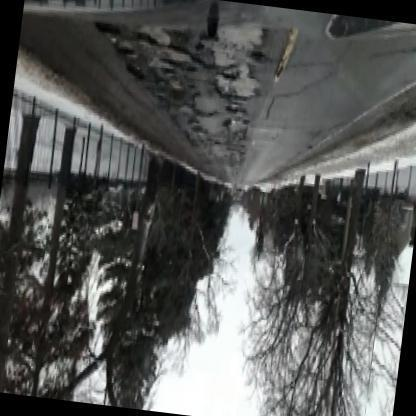pothole: (100, 21, 196, 100), (199, 18, 274, 100), (172, 106, 211, 157), (225, 114, 252, 170)
